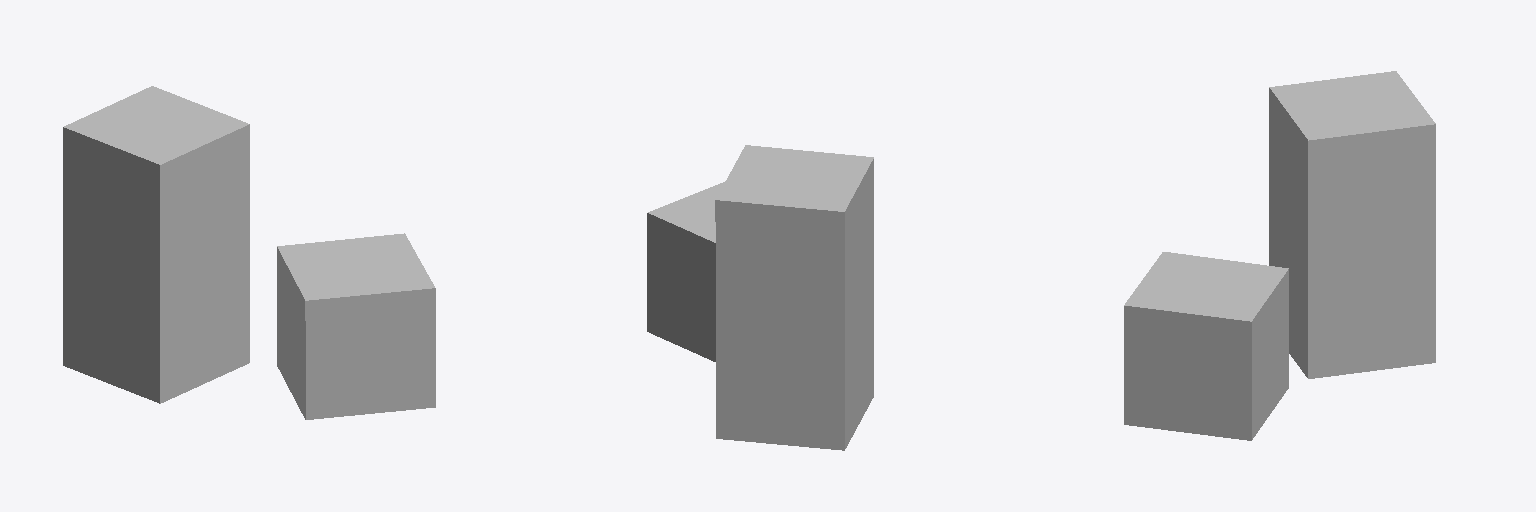
The model's file is boxes.obj.
The picture shows the model from 3 angles: view 1: azimuth 30°, elevation 25°; view 2: azimuth 150°, elevation 25°; view 3: azimuth 270°, elevation 25°; orthographic projection.
Parts seen in each view (by area): view 1: tall_box, short_box; view 2: tall_box, short_box; view 3: tall_box, short_box.
Boxes of the visible parts, x1=… form: tall_box: x1=63, y1=86, x2=249, y2=403; short_box: x1=277, y1=233, x2=435, y2=419; tall_box: x1=715, y1=145, x2=873, y2=450; short_box: x1=647, y1=181, x2=725, y2=361; tall_box: x1=1269, y1=71, x2=1435, y2=378; short_box: x1=1124, y1=252, x2=1288, y2=440.
Size of the model in its own units: 3.9 by 3.3 by 3.91.